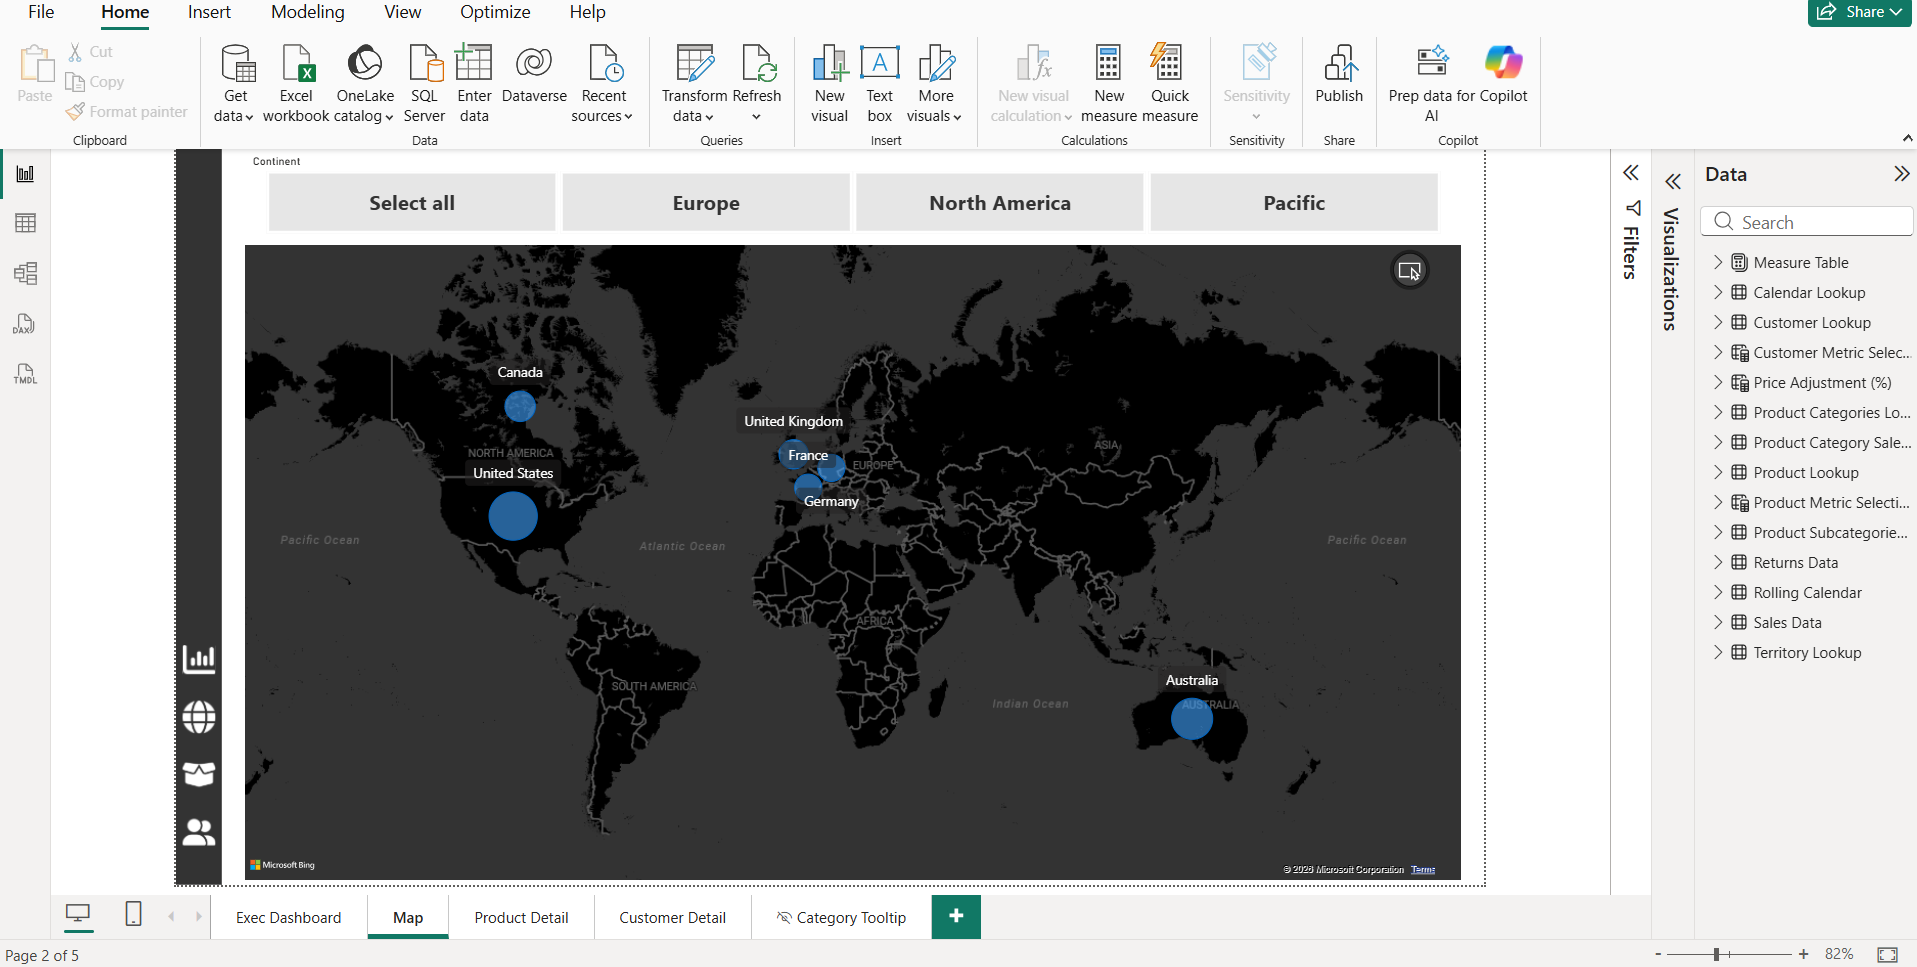

This screenshot's page, from the dashboard's own definition file:
{"tool":"powerbi","page":{"name":"Map","canvas":[1280,720],"ordinal":1},"visuals":[{"type":"shape","box":[0,0,45,719.8],"z":0},{"type":"actionButton","box":[2.4,479.4,45.2,40.4],"z":0,"group":"g1"},{"type":"map","fields":{"Category":["Territory Lookup.Country"],"Size":["Measure Table.Total Orders"]},"box":[62.4,89.3,1199.6,631],"z":1000},{"type":"actionButton","box":[2.4,591.9,45.2,40.4],"z":1000,"group":"g1"},{"type":"slicer","fields":{"Values":["Territory Lookup.Continent"]},"box":[62.4,0,1198.4,89.3],"z":2000},{"type":"actionButton","box":[2.4,648.2,45.2,40.4],"z":2000,"group":"g1"},{"type":"group","id":"g1","title":"Navigation Buttons","box":[2.4,479.4,45.2,209.1],"z":3000},{"type":"actionButton","box":[2.4,535.7,45.2,40.4],"z":3000,"group":"g1"}]}

Visuals, with their boxes on the page's 1280x720 design canvas (x1, y1, x2, y2). These are canvas units, not pixel positions in the 1917x967 screenshot, which may show the page scaled, cropped or inside an application window:
shape: box=[0, 0, 45, 720]
actionButton: box=[2, 479, 48, 520]
map - Territory Lookup.Country x Measure Table.Total Orders: box=[62, 89, 1262, 720]
actionButton: box=[2, 592, 48, 632]
slicer - Territory Lookup.Continent: box=[62, 0, 1261, 89]
actionButton: box=[2, 648, 48, 689]
"Navigation Buttons" group: box=[2, 479, 48, 688]
actionButton: box=[2, 536, 48, 576]
